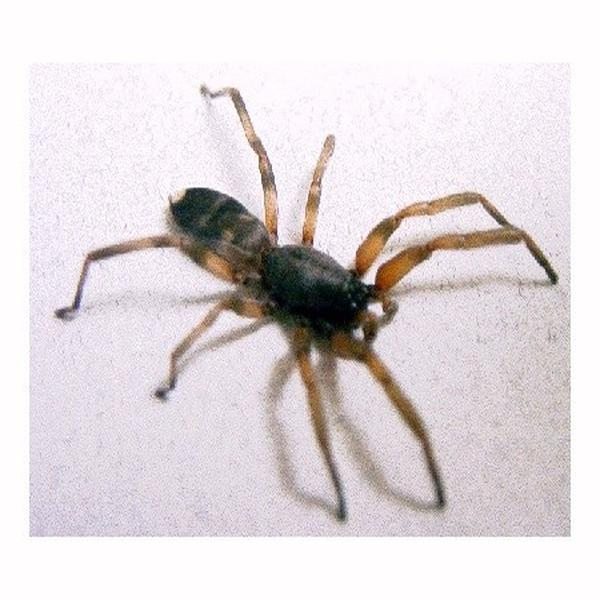White-Tailed Spider: (73, 84, 546, 504)
